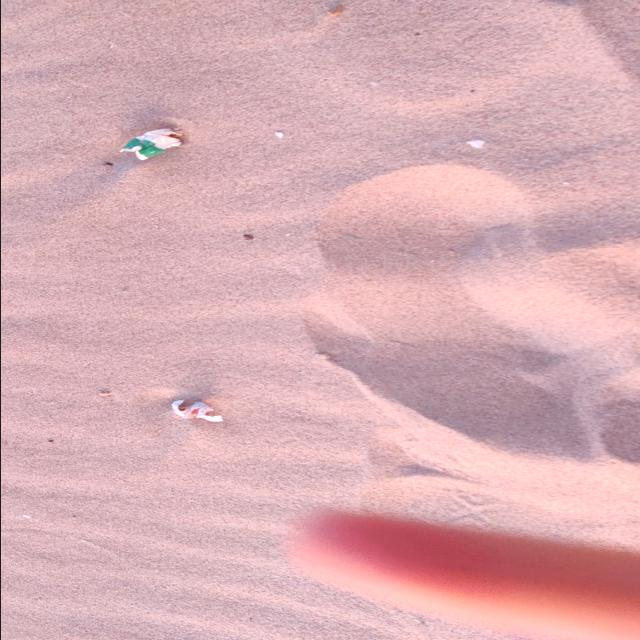Unlabeled litter: (119, 127, 182, 160), (170, 400, 222, 421)
